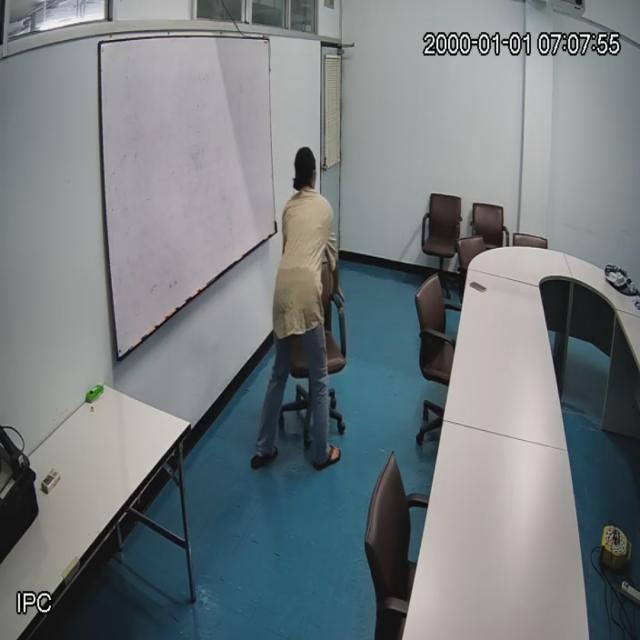normal: (258, 143, 342, 462)
